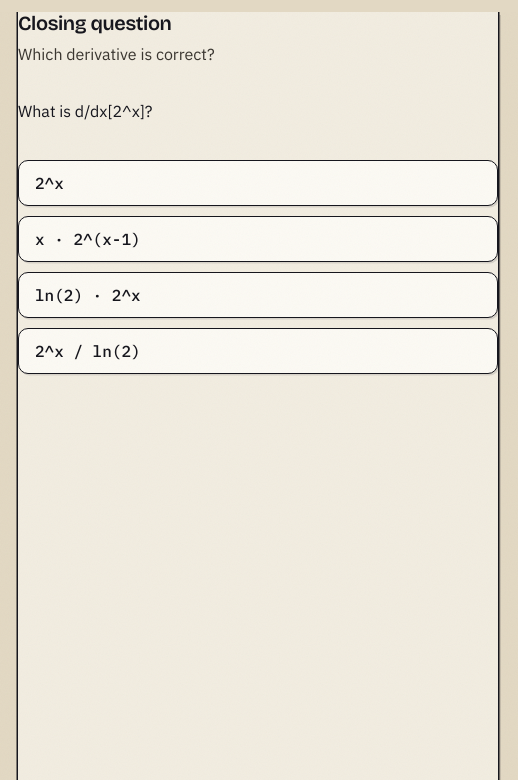
MultipleChoiceSlide (L4) › reveals Continue after the correct option is chosen
The width and height of the screenshot is (518, 780).
Expected: the button "continue" is not shown
Click the button "ln(2) · 2^x": coordinates (88, 295) x1=18 y1=272 x2=498 y2=318
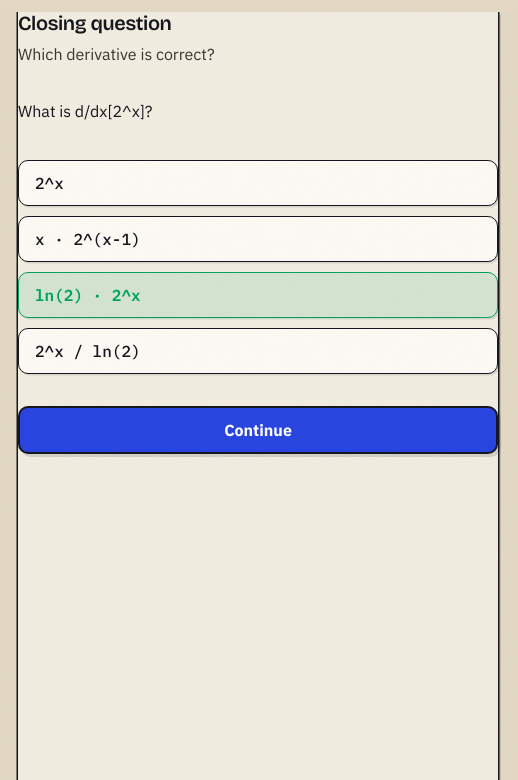
Expected: the button "Continue" is shown, x1=18 y1=406 x2=498 y2=454
